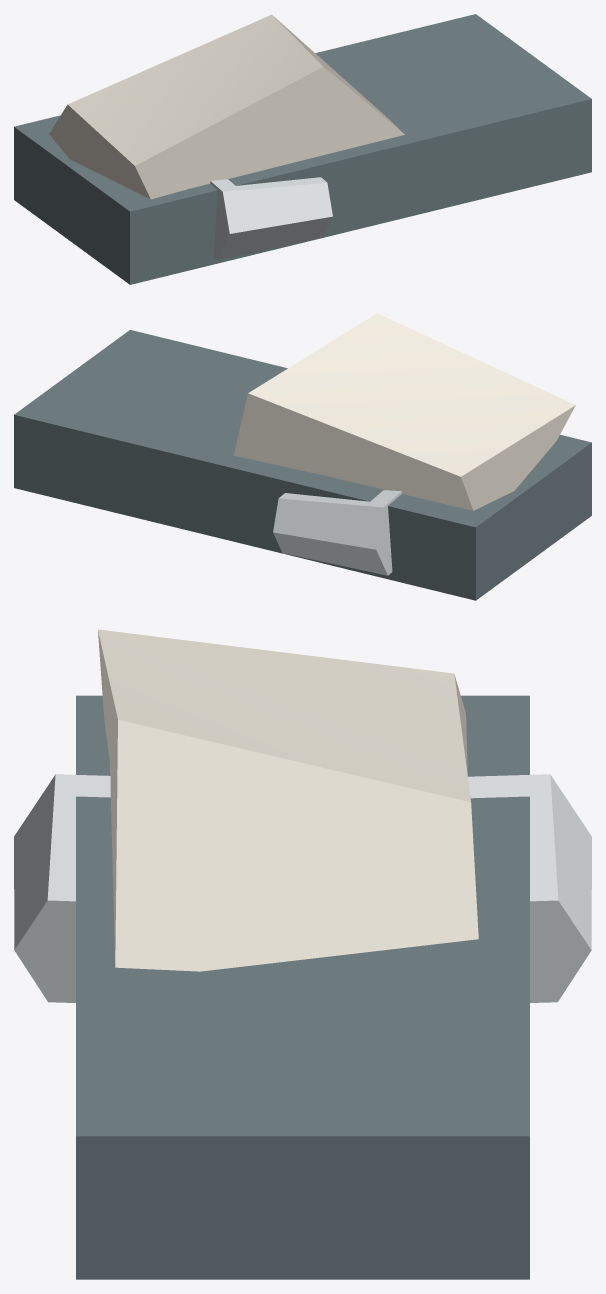
File: convoy_wreck_v4_ShadowProxy.glb
3 renders of one model, top to bottom at view 1: azimuth 30°, elevation 25°; view 2: azimuth 150°, elevation 25°; view 3: azimuth 270°, elevation 25°, orthographic. The views are drawn at different scales.
Parts seen in each view (by area): view 1: convoy_wreck_v4_ShadowProxy / Primary assembly; view 2: convoy_wreck_v4_ShadowProxy / Primary assembly; view 3: convoy_wreck_v4_ShadowProxy / Primary assembly.
Part boxes in pixels (<box>): convoy_wreck_v4_ShadowProxy / Primary assembly: <box>14,14,591,284</box>; convoy_wreck_v4_ShadowProxy / Primary assembly: <box>14,313,591,600</box>; convoy_wreck_v4_ShadowProxy / Primary assembly: <box>14,629,591,1279</box>.
Bounding box in the file's own units: 3.1 × 1.03 × 1.72.
